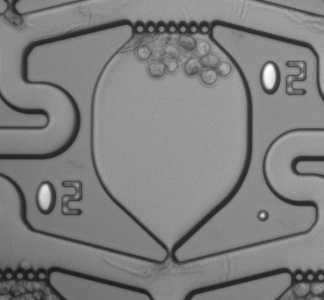AptNum: (251, 56, 313, 101)
Marker: (247, 202, 277, 229)
StNum: (29, 172, 91, 222)
Trap: (149, 253, 193, 298)
